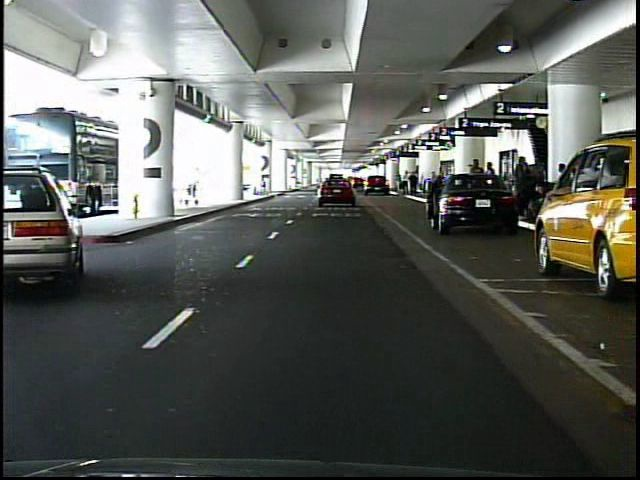person: (525, 153, 546, 220), (511, 158, 532, 220), (469, 157, 486, 211), (484, 161, 499, 209), (402, 170, 411, 197), (411, 173, 419, 198), (396, 175, 403, 194)
